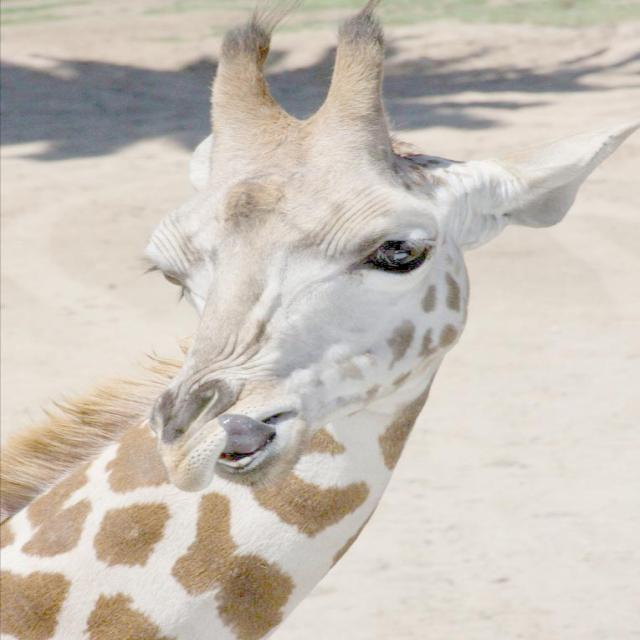Giraffe: (0, 20, 598, 640)
